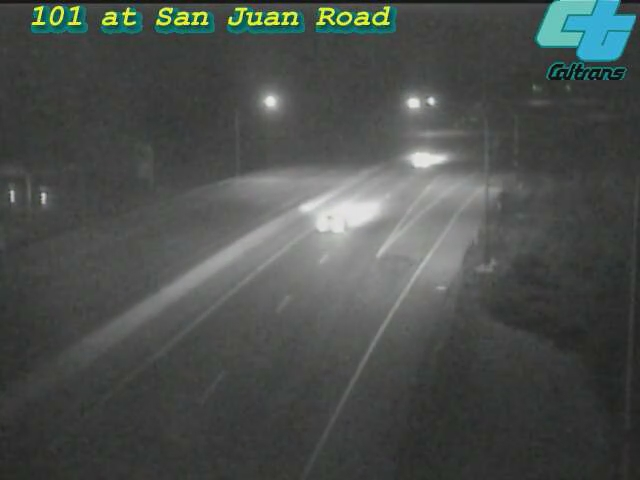vehicle: (379, 121, 459, 201), (288, 187, 368, 267)
